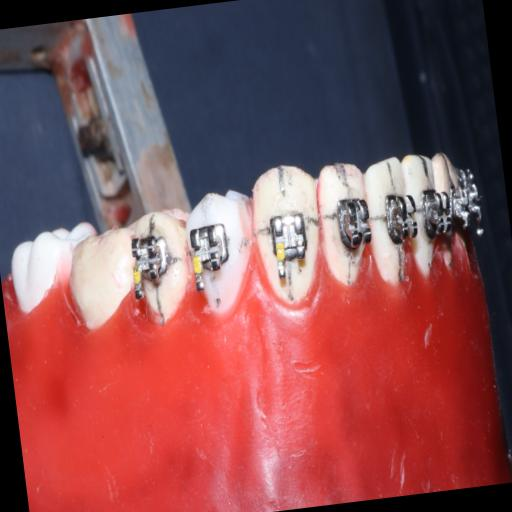correct_brace: (180, 183, 264, 319), (186, 219, 240, 293)
incorrect_brace: (263, 200, 315, 284)
